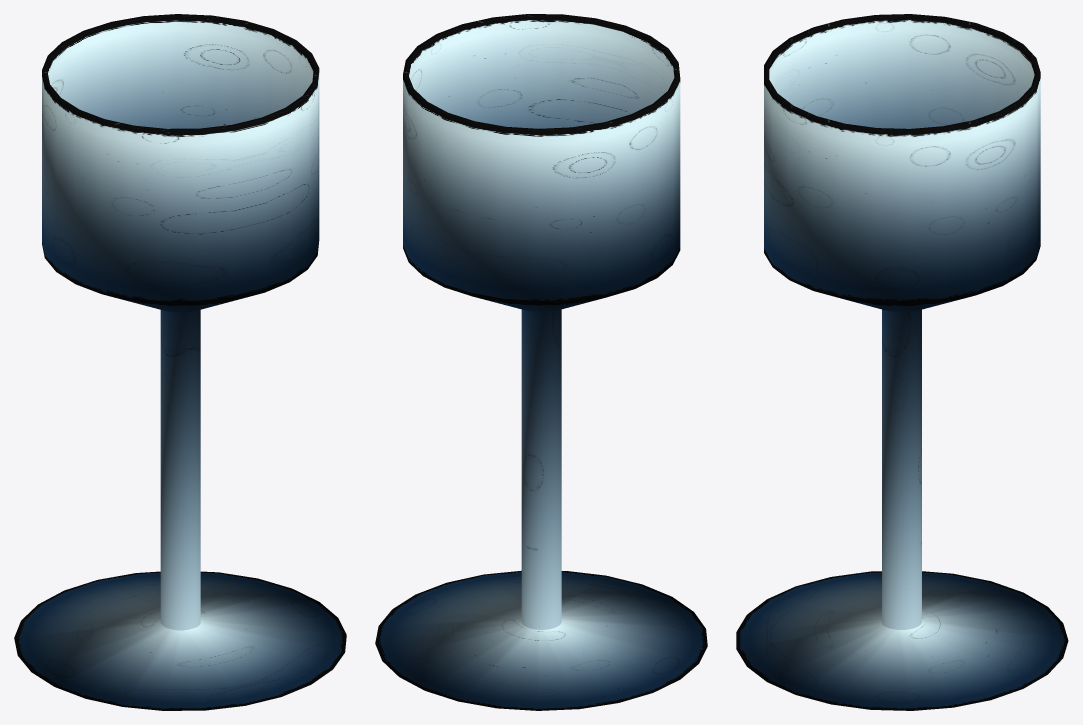
The model's file is cup.obj.
The picture shows the model from 3 angles, left to right: view 1: azimuth 30°, elevation 25°; view 2: azimuth 150°, elevation 25°; view 3: azimuth 270°, elevation 25°; orthographic projection.
Parts seen in each view (by area): view 1: cup; view 2: cup; view 3: cup.
Boxes of the visible parts, x1,y1,x2,y2 form: cup: (14,14,346,710); cup: (375,14,707,710); cup: (736,14,1068,710).
Size of the model in its own units: 0.1773 by 0.3341 by 0.177.
